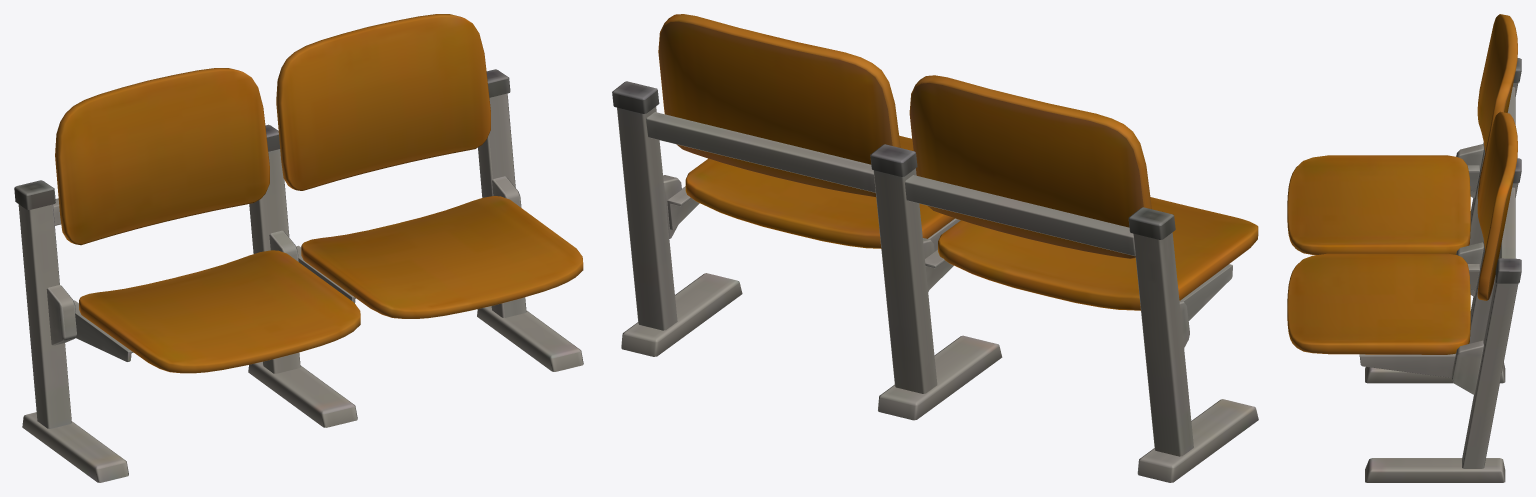
The picture shows the model from 3 angles, left to right: view 1: azimuth 30°, elevation 25°; view 2: azimuth 150°, elevation 25°; view 3: azimuth 270°, elevation 25°; orthographic projection. The views are drawn at different scales.
Size of the model in its own units: 17.2 by 10.55 by 7.94.
Materials: 1 (1 with a texture image).
